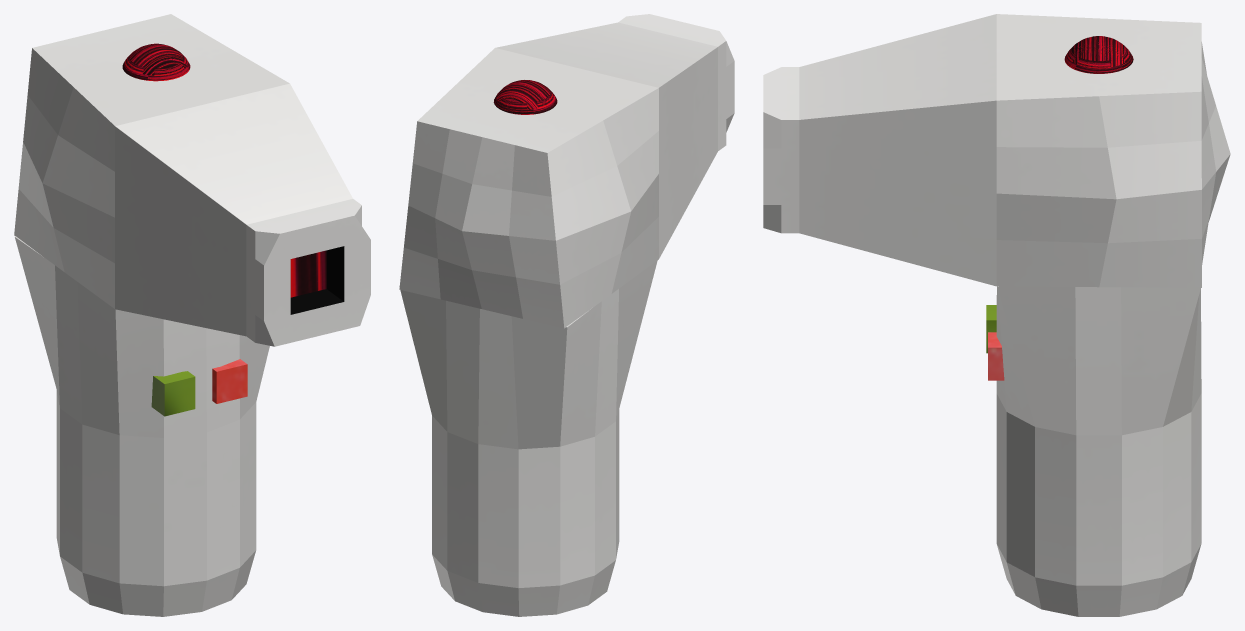
File: scanner.fbx
The picture shows the model from 3 angles, left to right: view 1: azimuth 30°, elevation 25°; view 2: azimuth 150°, elevation 25°; view 3: azimuth 270°, elevation 25°; orthographic projection. The views are drawn at different scales.
Visible parts, largest first — view 1: Sphere; view 2: Sphere; view 3: Sphere.
Part boxes in pixels (left/top/right/bottom): Sphere: left=14, top=14, right=370, bottom=616; Sphere: left=399, top=14, right=734, bottom=616; Sphere: left=763, top=14, right=1230, bottom=616.
Bounding box in the file's own units: 0.2001 × 0.3684 × 0.4691.
